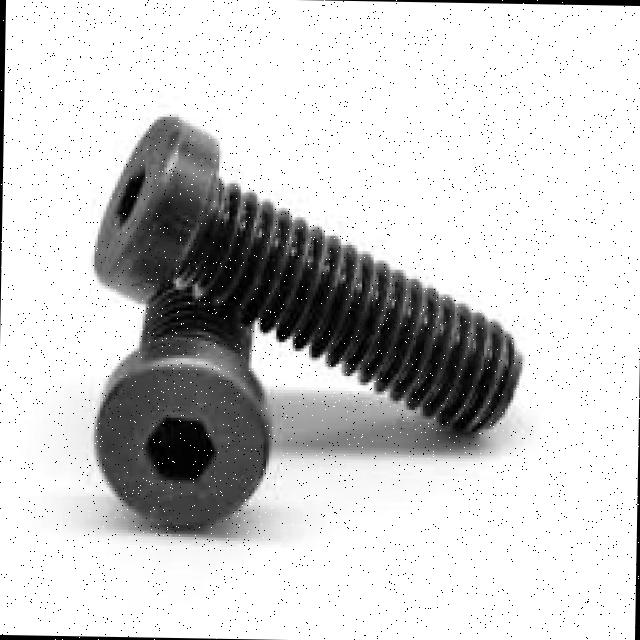Hex Socket Allen: (92, 355, 270, 524)
